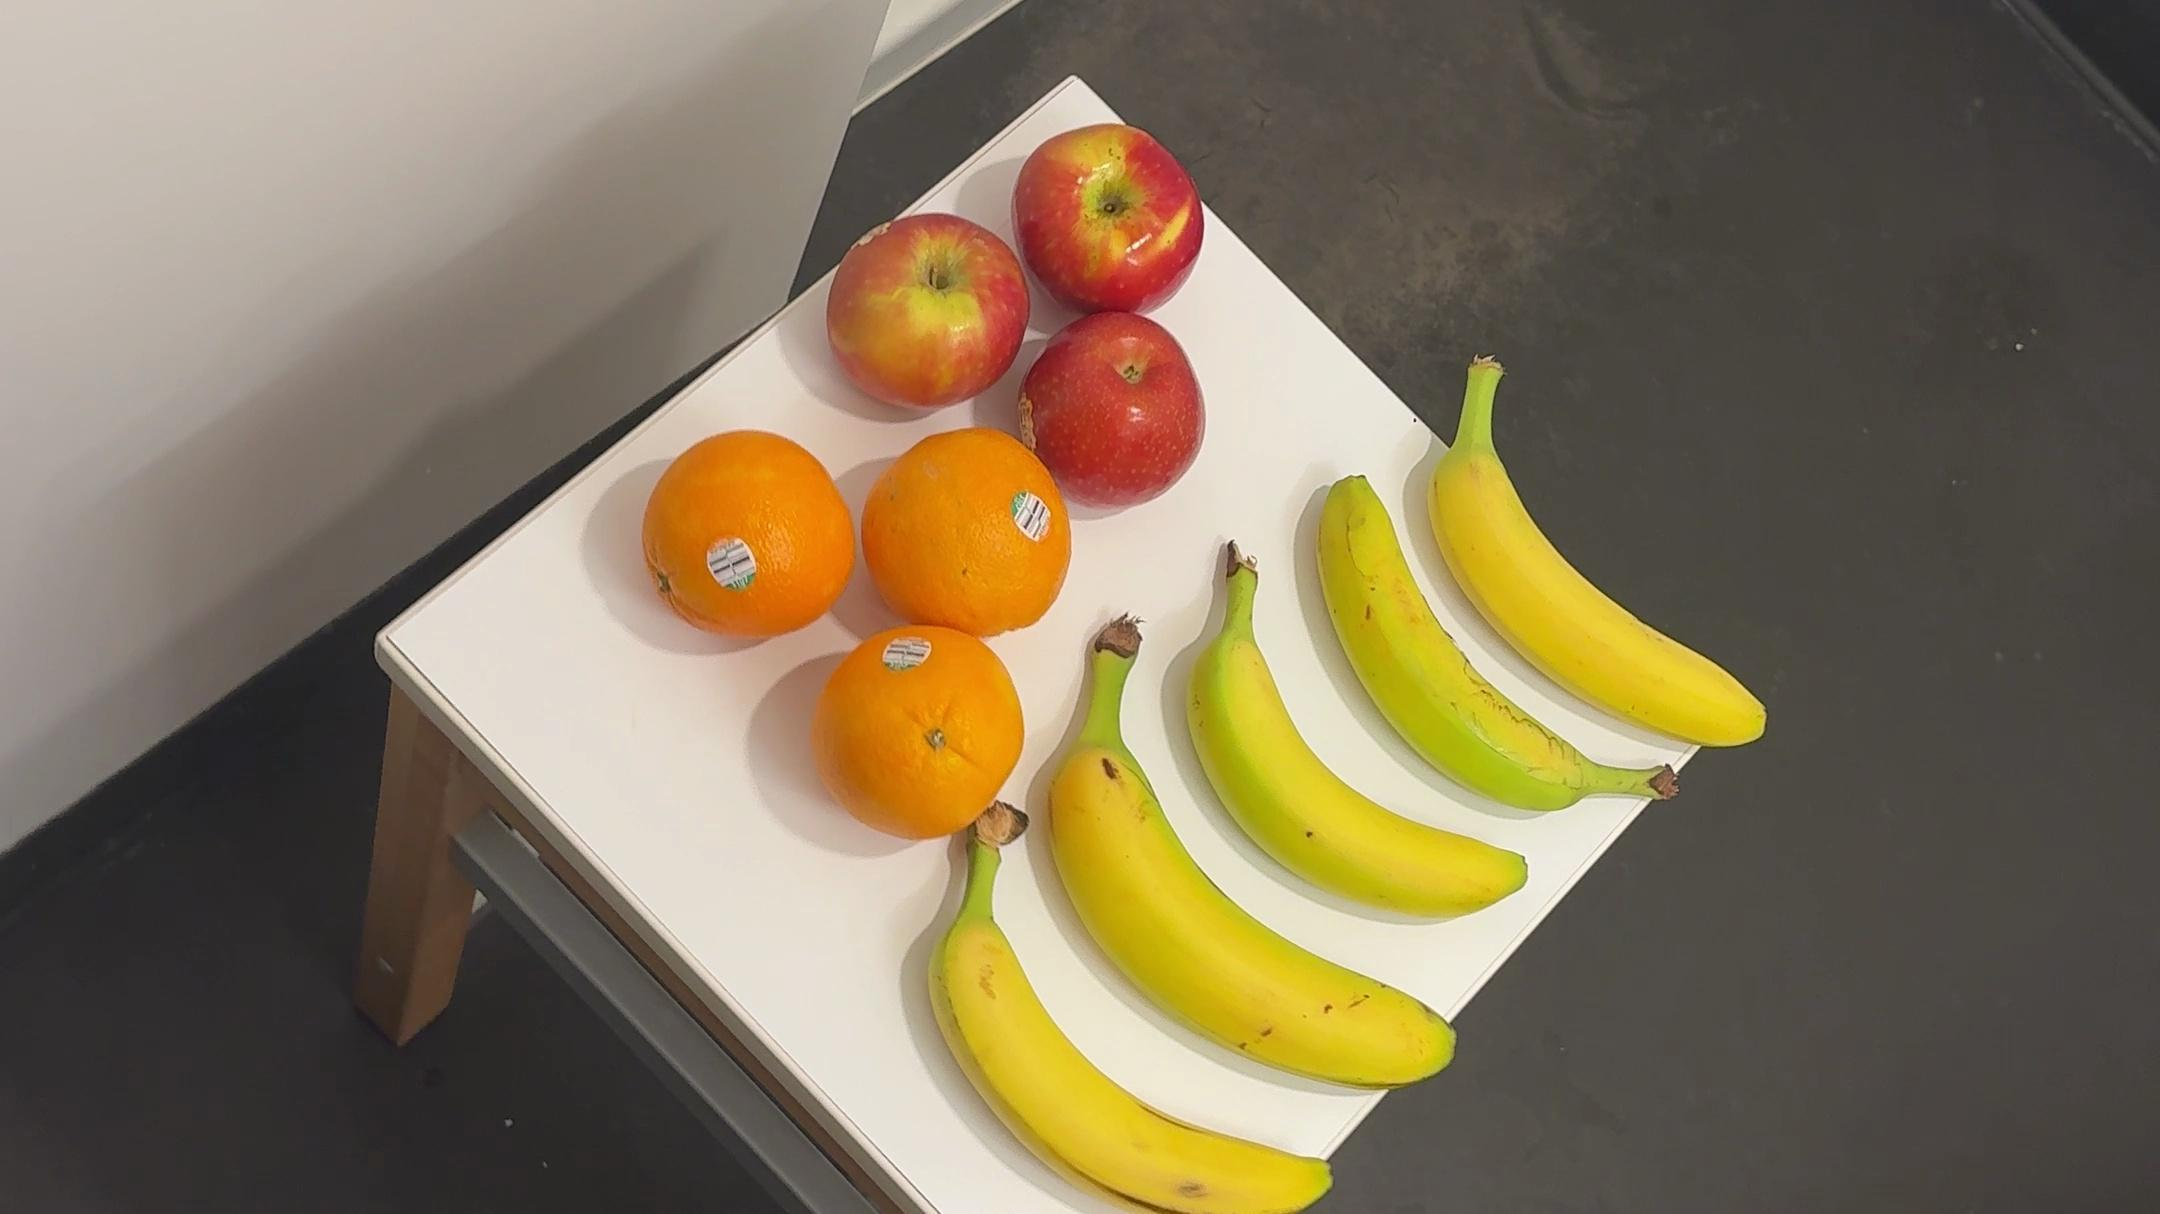apple: (1010, 119, 1214, 301), (829, 214, 1027, 401), (1027, 303, 1206, 494)
banana: (1024, 617, 1466, 1098), (905, 797, 1341, 1214), (1415, 337, 1779, 754), (1173, 527, 1538, 939), (1319, 465, 1684, 828)
orange: (645, 413, 852, 654), (857, 424, 1077, 640), (817, 613, 1019, 844)
